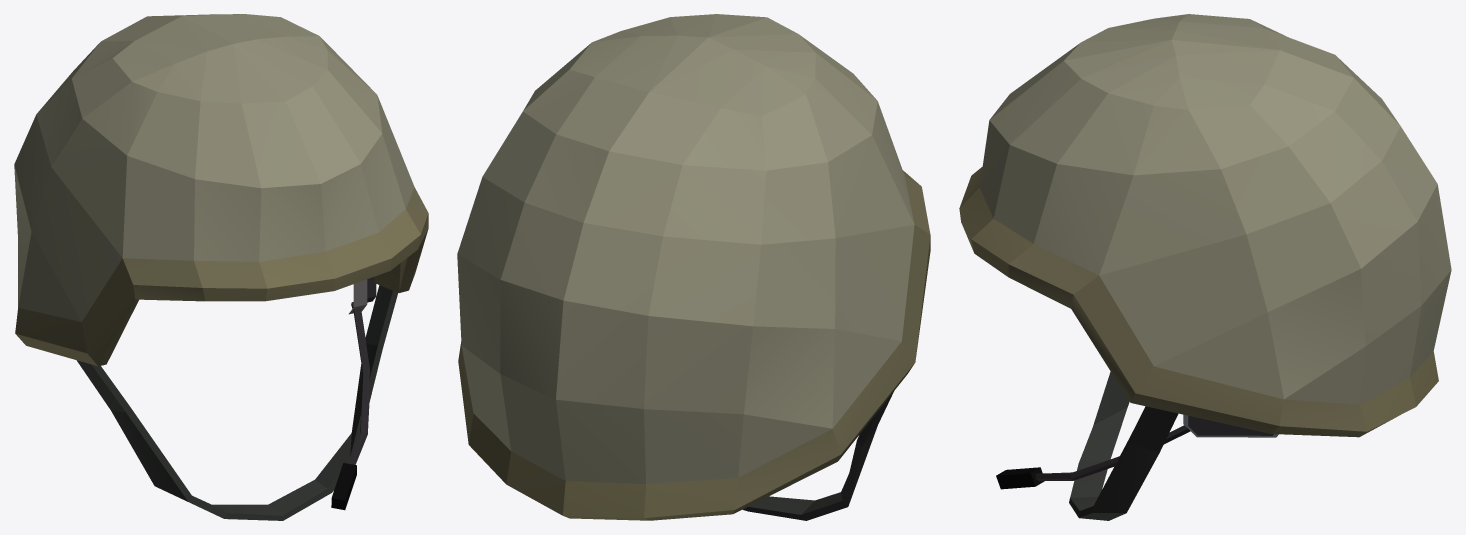
Rendered from Stahlhelm.glb.
The picture shows the model from 3 angles, left to right: view 1: azimuth 30°, elevation 25°; view 2: azimuth 150°, elevation 25°; view 3: azimuth 270°, elevation 25°; orthographic projection. The views are drawn at different scales.
Visible parts, largest first — view 1: Helmet; view 2: Helmet; view 3: Helmet.
Boxes of the visible parts, <box> form: Helmet: <box>14,14,428,520</box>; Helmet: <box>457,14,930,520</box>; Helmet: <box>959,14,1451,520</box>.
Size of the model in its own units: 0.1947 by 0.2451 by 0.2362.
1 material, 1 textured.
